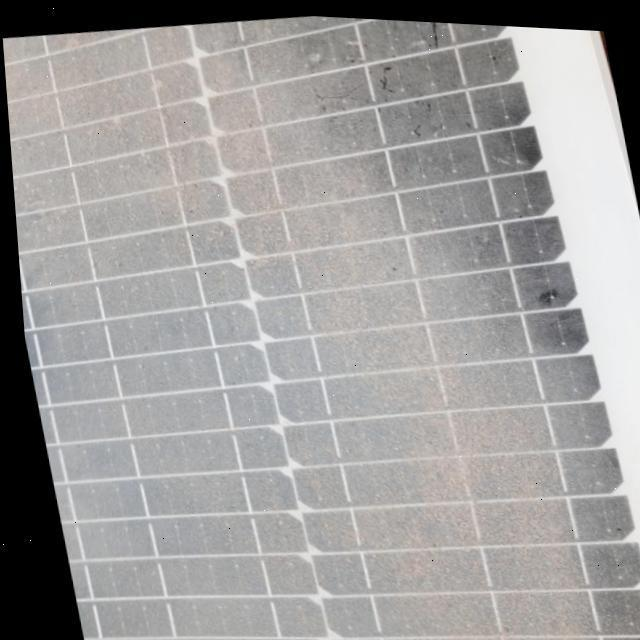Anomaly Solar Panel: (0, 0, 640, 640)
Surface Contaminant: (2, 12, 633, 640)
